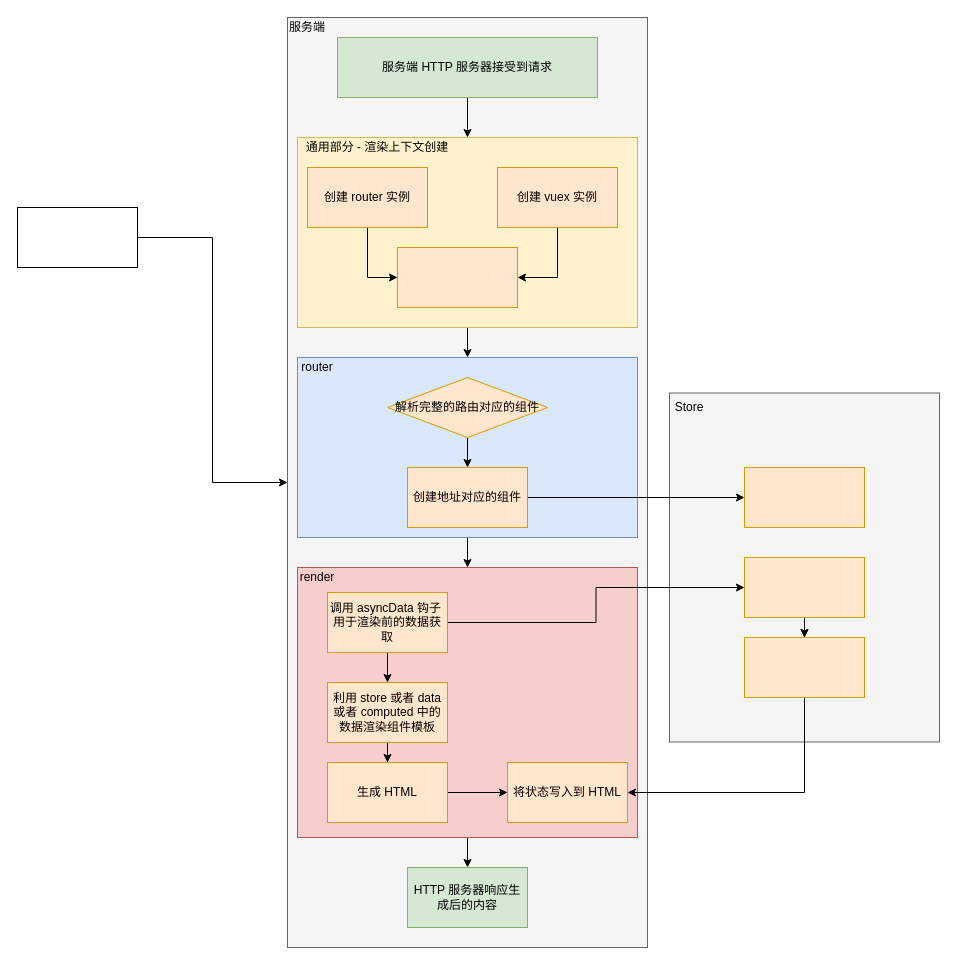
Image size: 957x965. Some labels were removed from this diagram. Here are the shapes that lost their labels. From the top down, the centre of each, then its label:
At (x=77, y=237): "客户端请求 GET /".
At (x=457, y=277): "创建 vue 实例".
At (x=804, y=497): "存储 router 状态到 store 中".
At (x=804, y=587): "调用 action 请求数据".
At (x=804, y=667): "修改 store 状态".
